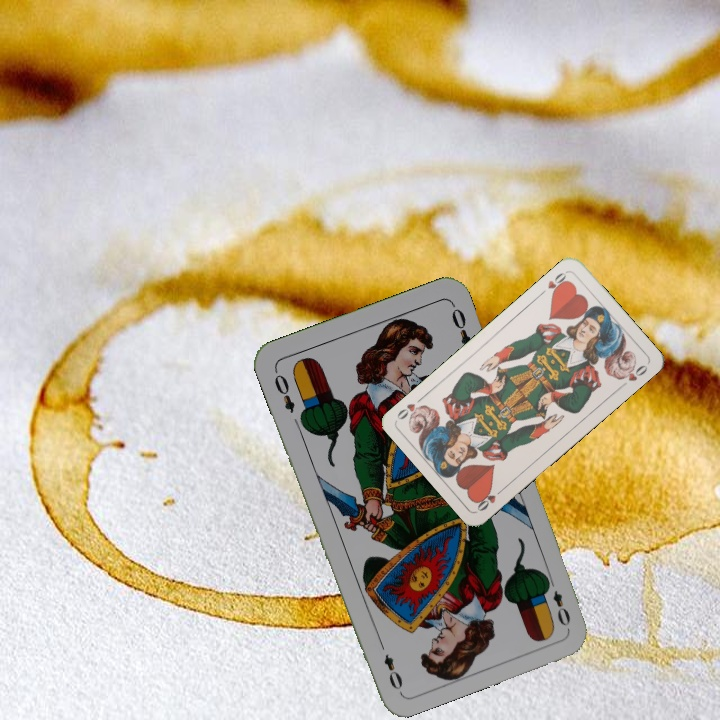EO: (542, 573, 573, 629), (270, 366, 298, 416)
HO: (473, 483, 507, 514), (536, 268, 571, 298)
